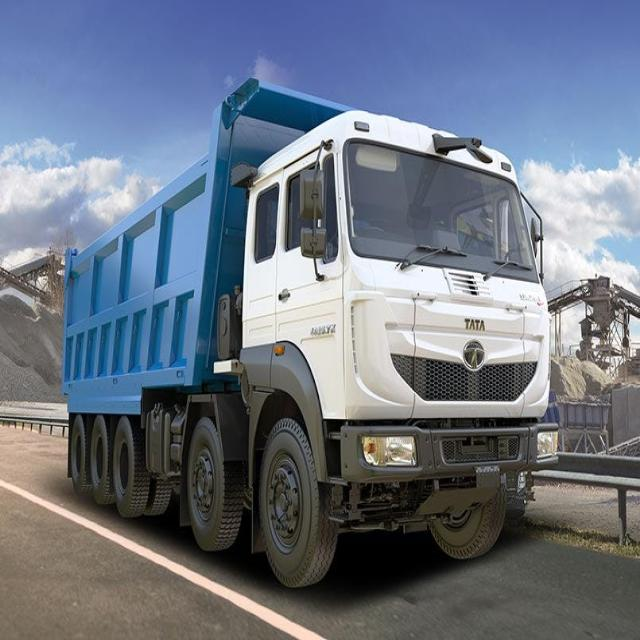dump_truck: (43, 58, 572, 595)
